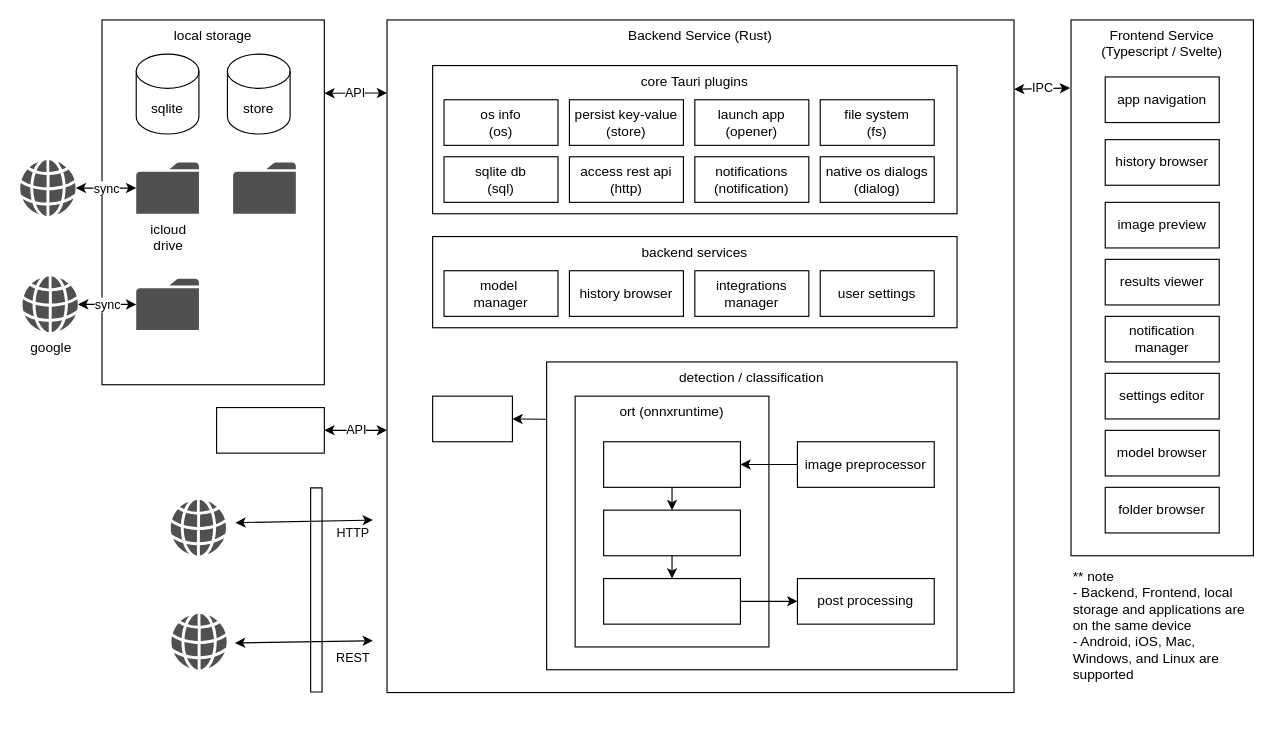
The diagram is 1273 pixels wide and 735 high, and some of its shapes have lost their labels. The centre of each missing label's shape, as x and y in pixels:
"aggregation (fpn)" belongs at (671,532).
"apple" belongs at (47,187).
"cuda / metal" belongs at (471,418).
"feature definition (efficinet)" belongs at (671,464).
"google drive" belongs at (167,303).
"local application" belongs at (269,429).
"object detection (yolo)" belongs at (671,600).
"photo library" belongs at (264,187).
"Web application" belongs at (198,527).
"Web service" belongs at (198,641).
